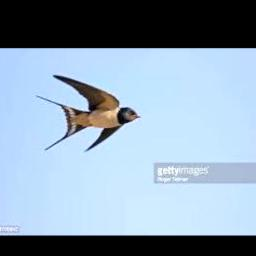Swallow: (36, 74, 140, 151)
